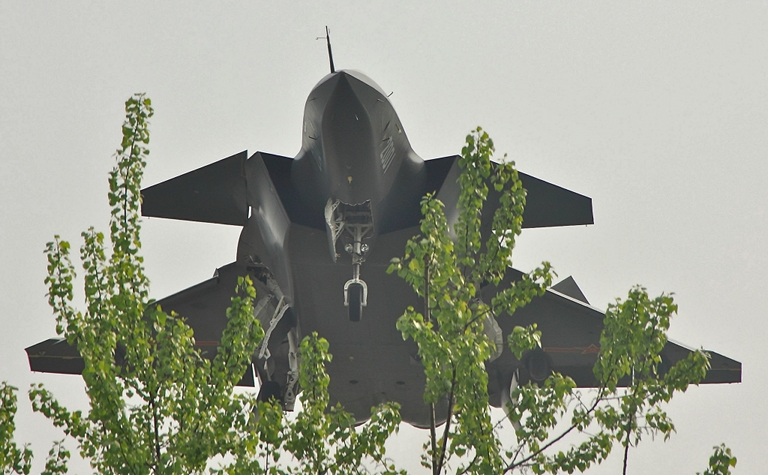J20: (23, 24, 743, 436)
